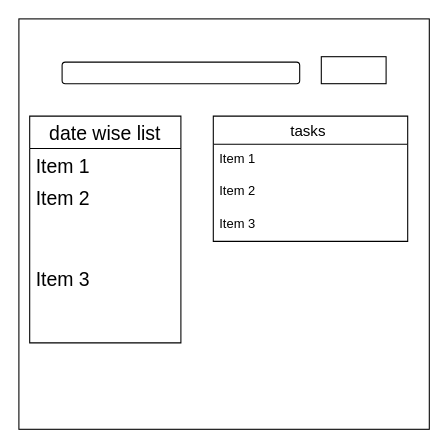
Some shapes in this 448 by 448 pixel diagram are drawn without their labels. The centre of each missing label's shape, as x and y in pixels:
"search" goes at [353,70].
"search by task name" goes at [180,72].
